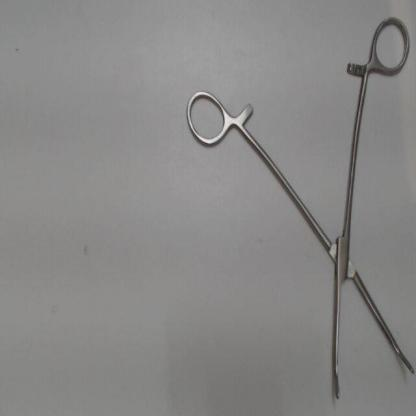Lahey Forceps: (181, 9, 416, 403)
